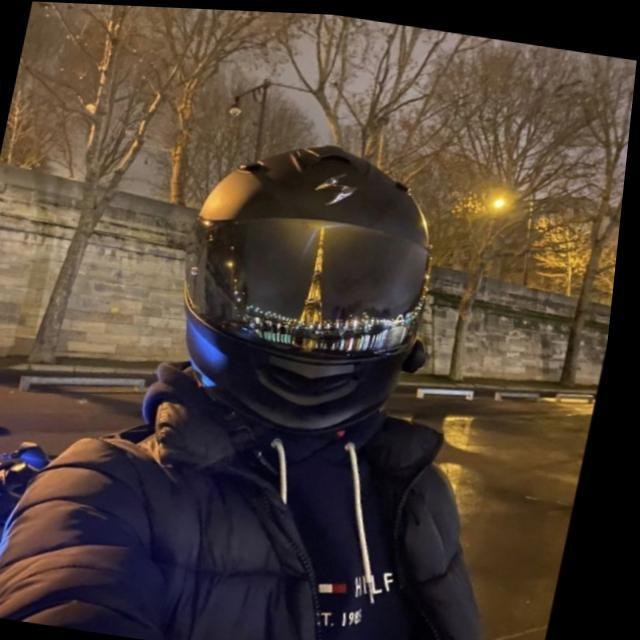Helmet: (174, 134, 438, 456)
